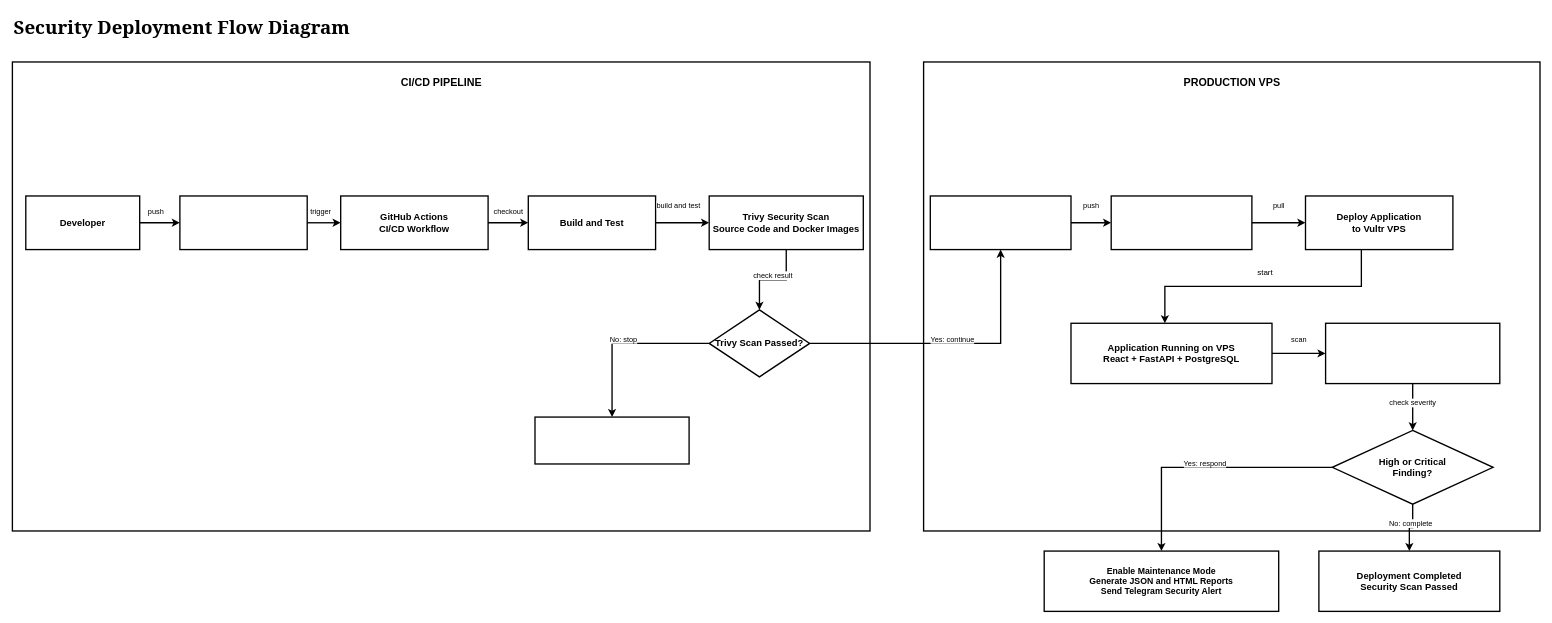
Some shapes in this 1552 by 623 pixel diagram are drawn without their labels. The shapes that lost their labels are listed below. From the top down, each one's centre as x and y in pixels, then its label:
[243,222]: GitHub Repository
[1000,222]: Build Docker Images
[1181,222]: Docker Hub Image Registry
[1412,353]: Fabula Security Scanner Post-Deployment Scan
[611,440]: Pipeline Aborted Security Report Generated
